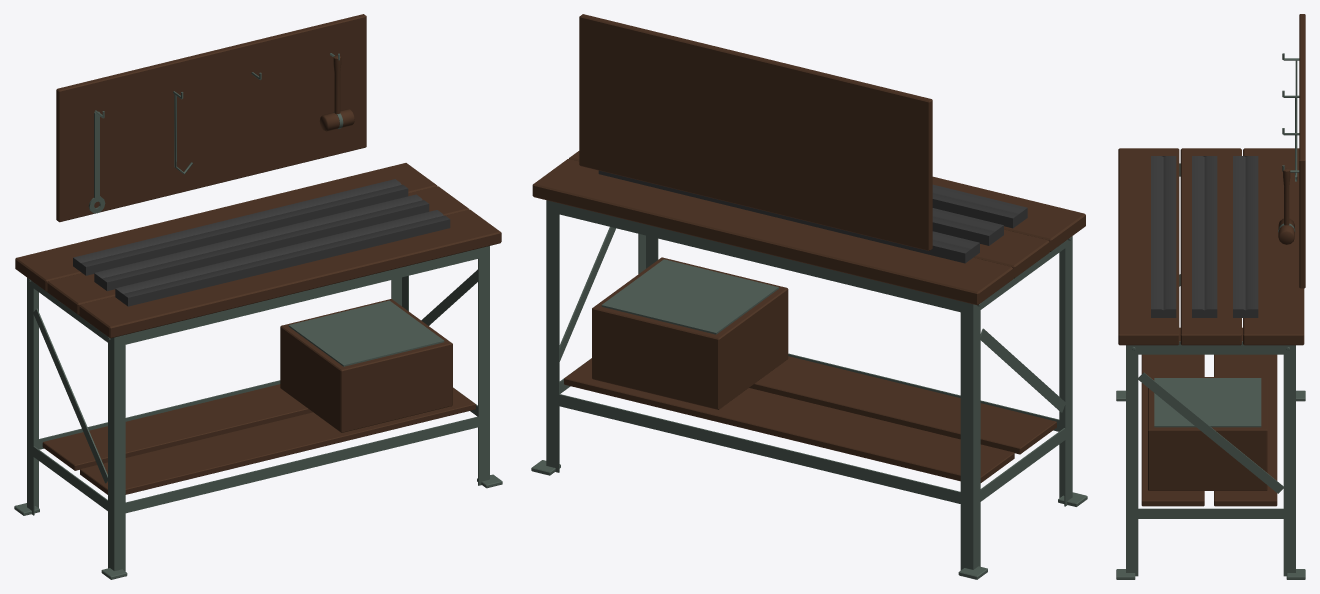
File: tube_bench.glb
The picture shows the model from 3 angles, left to right: view 1: azimuth 30°, elevation 25°; view 2: azimuth 150°, elevation 25°; view 3: azimuth 270°, elevation 25°; orthographic projection. The views are drawn at different scales.
Parts seen in each view (by area): view 1: tube_bench, IA_bench_0, IA_bench_2, IA_bench_1; view 2: tube_bench, IA_bench_2, IA_bench_0, IA_bench_1; view 3: tube_bench, IA_bench_0, IA_bench_1, IA_bench_2.
Part boxes in pixels (box(x1,y1,x2,y2)): tube_bench: box(14, 14, 502, 579); IA_bench_0: box(115, 210, 450, 306); IA_bench_2: box(73, 179, 408, 275); IA_bench_1: box(94, 194, 429, 291); tube_bench: box(531, 14, 1087, 579); IA_bench_2: box(598, 170, 979, 263); IA_bench_0: box(932, 184, 1027, 228); IA_bench_1: box(932, 208, 1003, 245); tube_bench: box(1116, 14, 1305, 579); IA_bench_0: box(1151, 156, 1176, 317); IA_bench_1: box(1192, 156, 1217, 317); IA_bench_2: box(1233, 156, 1258, 317).
Bounding box in the file's own units: 1.4 × 1.4 × 0.6.
